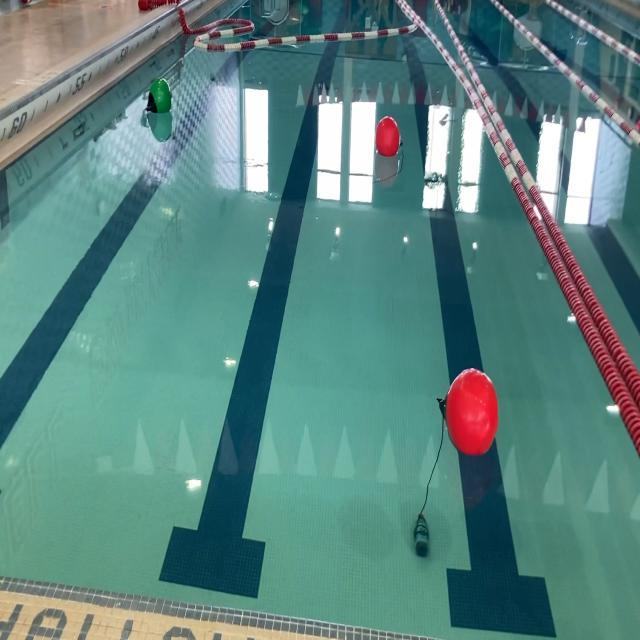buoy: (437, 370, 498, 456), (146, 74, 172, 122), (376, 114, 400, 158)
